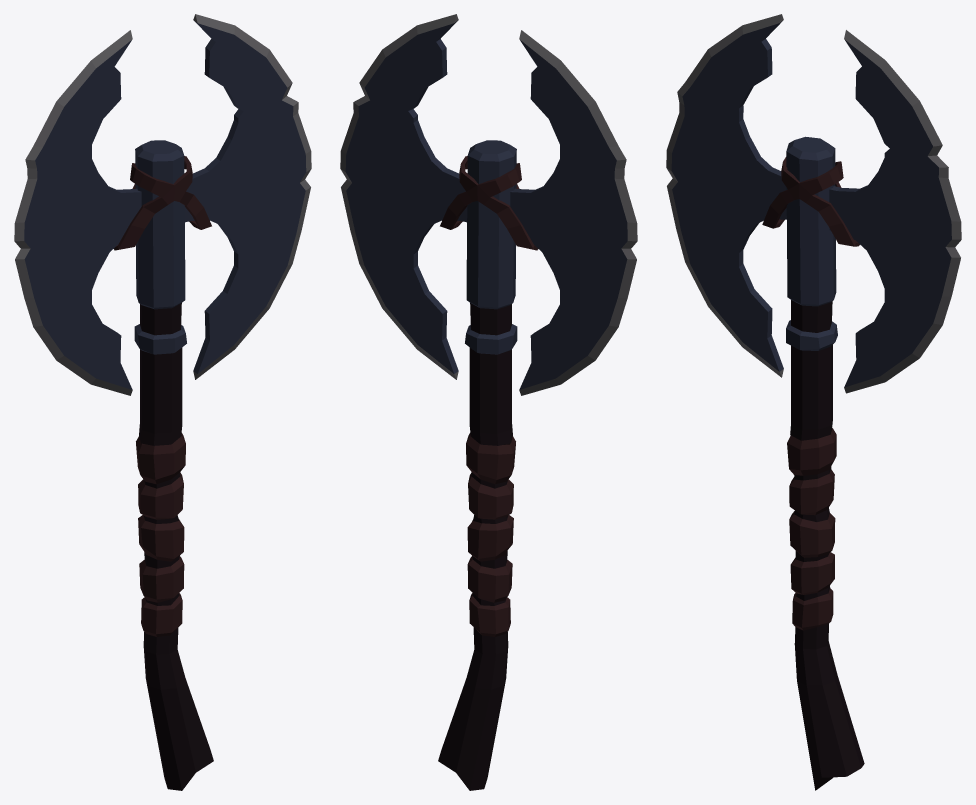
The model's file is Axe_Double.obj.
3 renders of one model, left to right at view 1: azimuth 30°, elevation 25°; view 2: azimuth 150°, elevation 25°; view 3: azimuth 330°, elevation 25°, orthographic.
Parts seen in each view (by area): view 1: Axe_Double_Cylinder.032; view 2: Axe_Double_Cylinder.032; view 3: Axe_Double_Cylinder.032.
Boxes of the visible parts, bbox=[...] form: Axe_Double_Cylinder.032: bbox=[14, 14, 311, 790]; Axe_Double_Cylinder.032: bbox=[340, 14, 637, 790]; Axe_Double_Cylinder.032: bbox=[666, 14, 961, 790].
Size of the model in its own units: 0.5053 by 1.25 by 0.0786.
